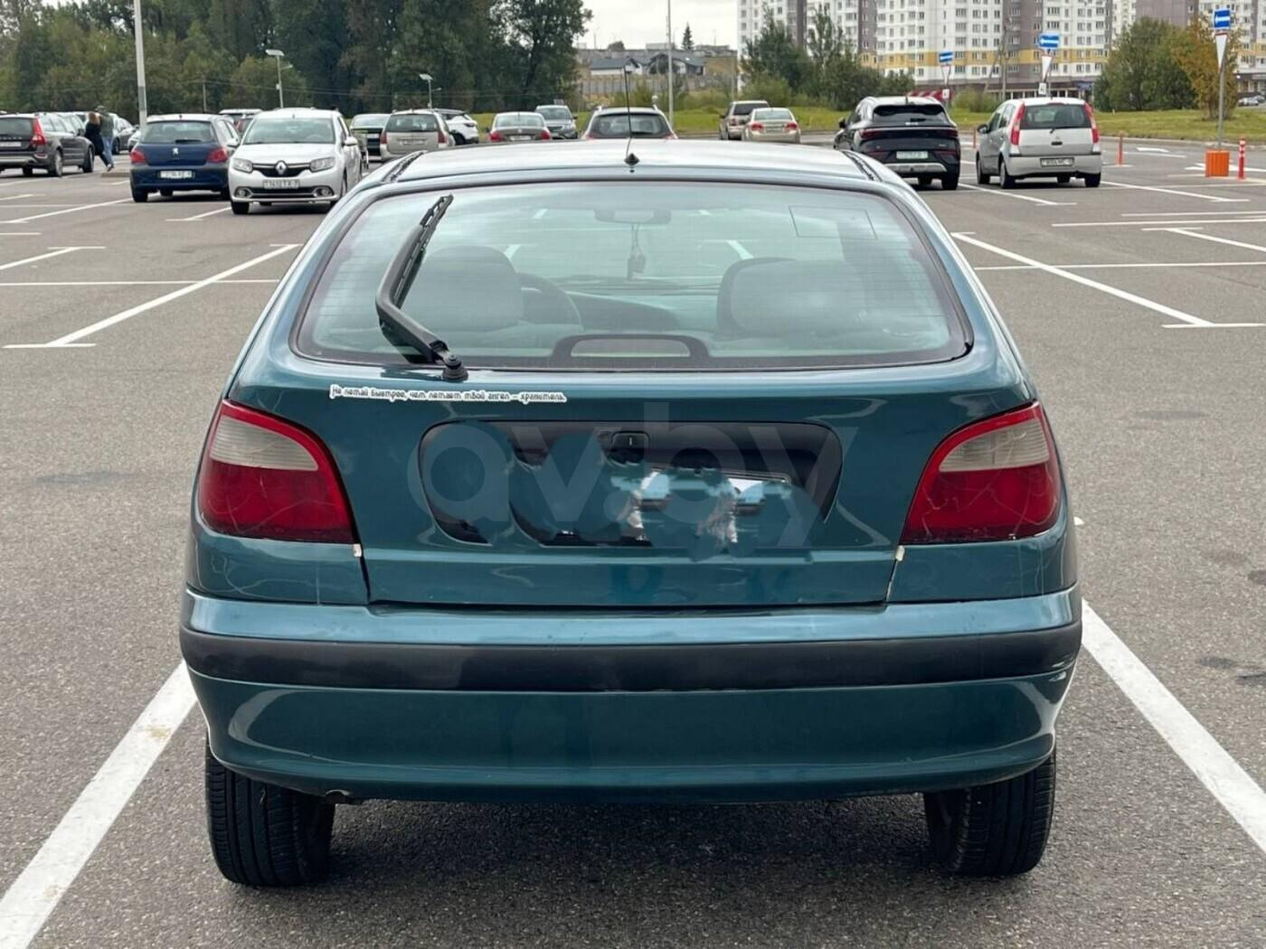Megane_1995-1999: (181, 138, 1084, 884)
